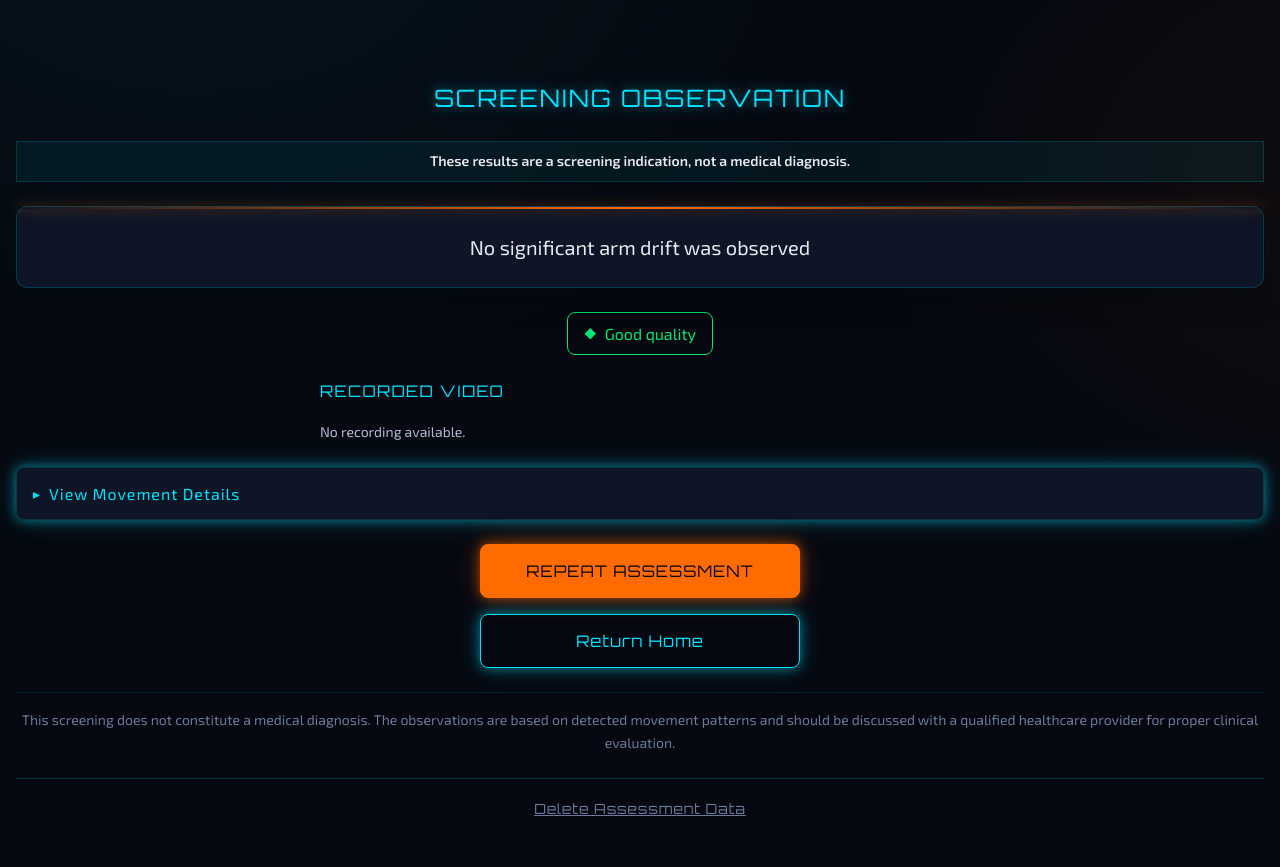
ResultsScreen › Collapsible Movement Details › expands details when toggle is clicked
This screenshot has width=1280, height=867.
Click the button "▸ View Movement Details" at (145, 494), box [16, 467, 1264, 520]
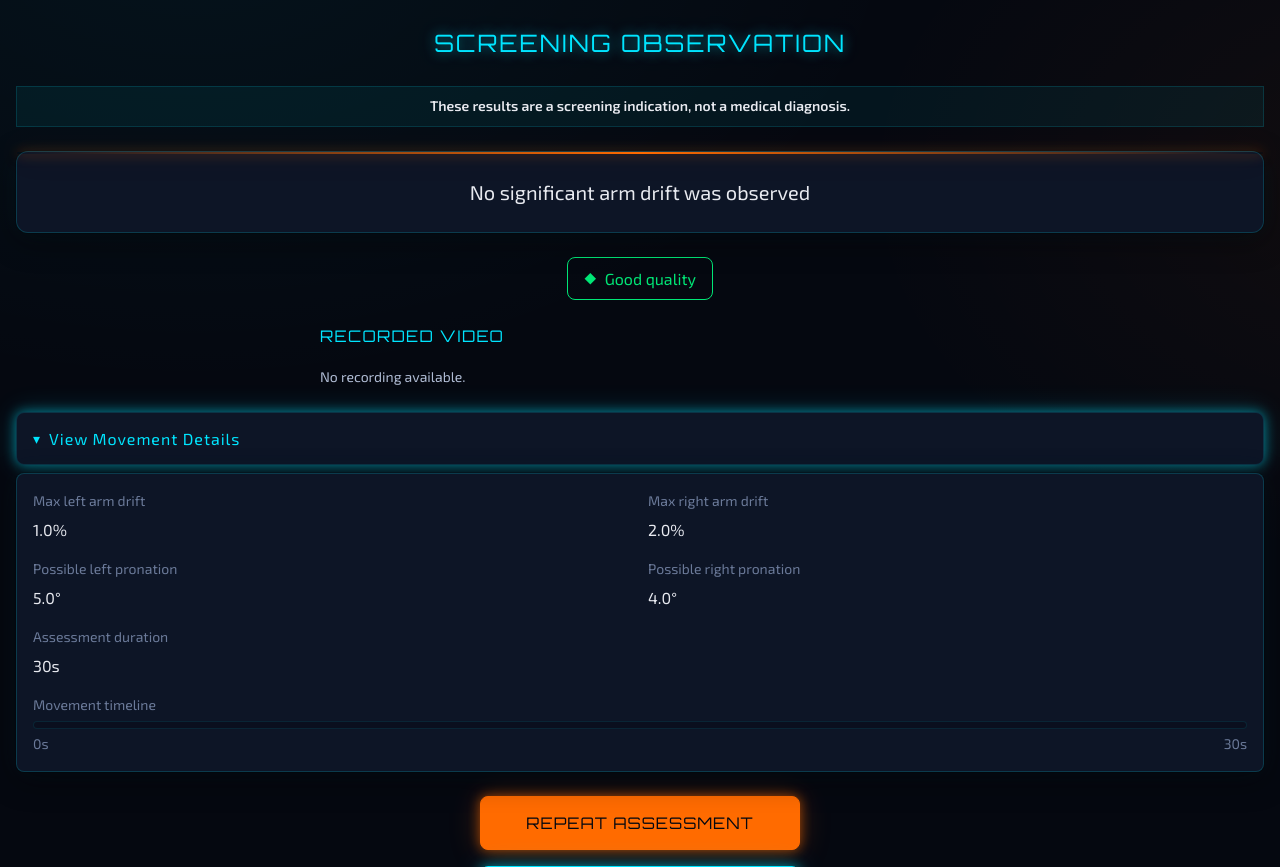
Now the text "Max left arm drift" is shown, box [33, 492, 145, 509]
Now the text "Max right arm drift" is shown, box [648, 492, 768, 509]
Now the text "Possible left pronation" is shown, box [33, 560, 177, 577]
